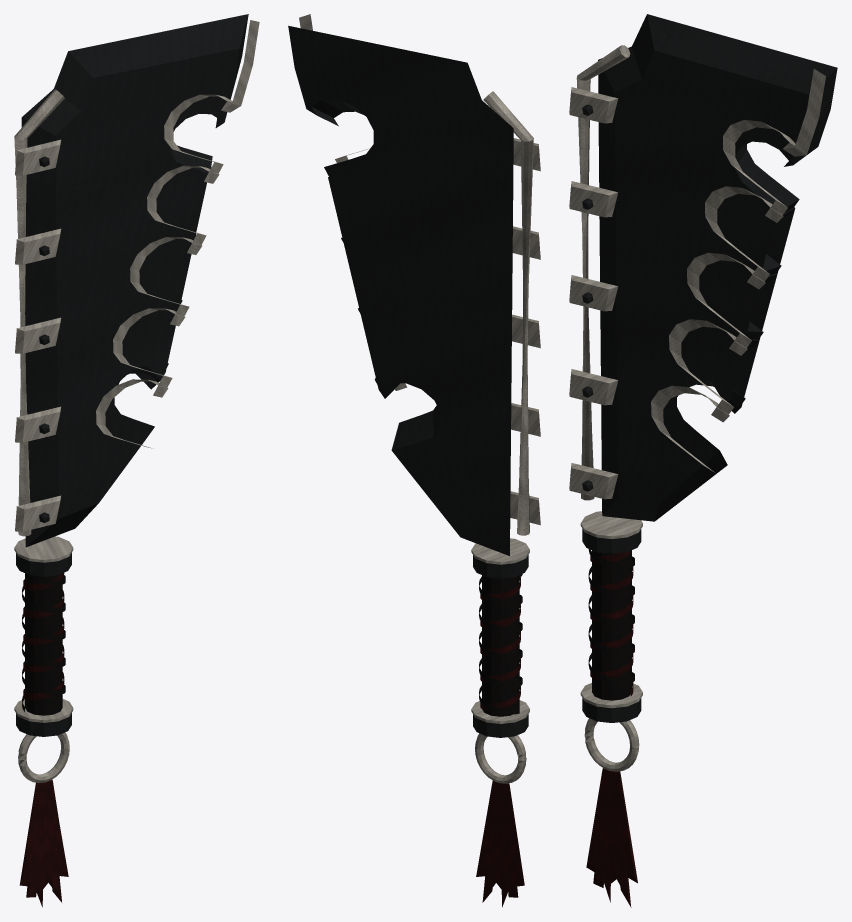
The model's file is void-cleaver.glb.
3 renders of one model, left to right at view 1: azimuth 30°, elevation 25°; view 2: azimuth 150°, elevation 25°; view 3: azimuth 330°, elevation 25°, orthographic. The views are drawn at different scales.
Parts seen in each view (by area): view 1: Weathered_cleaver_body, Silver_scalloped_edge, Dark_grip, Pale_spine_rail, Crossing_black_wrap, Deep_red_wrap, Pale_ferrule_edge.001, Spine_clamp.002, Spine_clamp, Spine_clamp.001, Spine_clamp.003, Spine_clamp.004 (+9 smaller); view 2: Weathered_cleaver_body, Pale_spine_rail, Dark_grip, Crossing_black_wrap, Deep_red_wrap, Pommel_ring, Pale_ferrule_edge.001, Split_crimson_tassel_0, Split_crimson_tassel_5, Iron_socket_ferrule.001, Iron_socket_ferrule, Split_crimson_tassel_1 (+9 smaller); view 3: Weathered_cleaver_body, Silver_scalloped_edge, Dark_grip, Pale_spine_rail, Crossing_black_wrap, Deep_red_wrap, Spine_clamp, Spine_clamp.002, Spine_clamp.001, Spine_clamp.003, Spine_clamp.004, Pale_ferrule_edge.001 (+11 smaller).
Part boxes in pixels (box(x1,y1,x2,y2)): Weathered_cleaver_body: box(21, 14, 248, 547); Silver_scalloped_edge: box(96, 20, 259, 448); Dark_grip: box(25, 574, 62, 715); Pale_spine_rail: box(14, 89, 64, 536); Crossing_black_wrap: box(22, 573, 65, 711); Deep_red_wrap: box(23, 573, 64, 699); Pale_ferrule_edge.001: box(14, 536, 73, 562); Spine_clamp.002: box(15, 317, 61, 353); Spine_clamp: box(15, 495, 60, 531); Spine_clamp.001: box(15, 406, 60, 442); Spine_clamp.003: box(15, 228, 61, 264); Spine_clamp.004: box(15, 139, 61, 175); Weathered_cleaver_body: box(288, 25, 513, 555); Pale_spine_rail: box(483, 91, 533, 535); Dark_grip: box(482, 575, 519, 716); Crossing_black_wrap: box(479, 574, 522, 714); Deep_red_wrap: box(480, 577, 520, 709); Pommel_ring: box(475, 733, 526, 783); Pale_ferrule_edge.001: box(471, 538, 529, 564); Split_crimson_tassel_0: box(503, 783, 524, 886); Split_crimson_tassel_5: box(482, 782, 497, 902); Iron_socket_ferrule.001: box(473, 555, 528, 578); Iron_socket_ferrule: box(473, 714, 528, 737); Split_crimson_tassel_1: box(502, 784, 518, 897); Weathered_cleaver_body: box(598, 14, 837, 521); Silver_scalloped_edge: box(651, 69, 825, 472); Dark_grip: box(592, 550, 631, 700); Pale_spine_rail: box(576, 45, 630, 500); Crossing_black_wrap: box(588, 549, 634, 683); Deep_red_wrap: box(590, 551, 633, 696); Spine_clamp: box(569, 463, 618, 499); Spine_clamp.002: box(569, 275, 618, 311); Spine_clamp.001: box(569, 369, 618, 405); Spine_clamp.003: box(569, 181, 618, 217); Spine_clamp.004: box(569, 87, 618, 123); Pale_ferrule_edge.001: box(580, 511, 642, 538).
Size of the model in its own units: 0.373 by 1.24 by 0.078.
4 materials, 4 textured.
